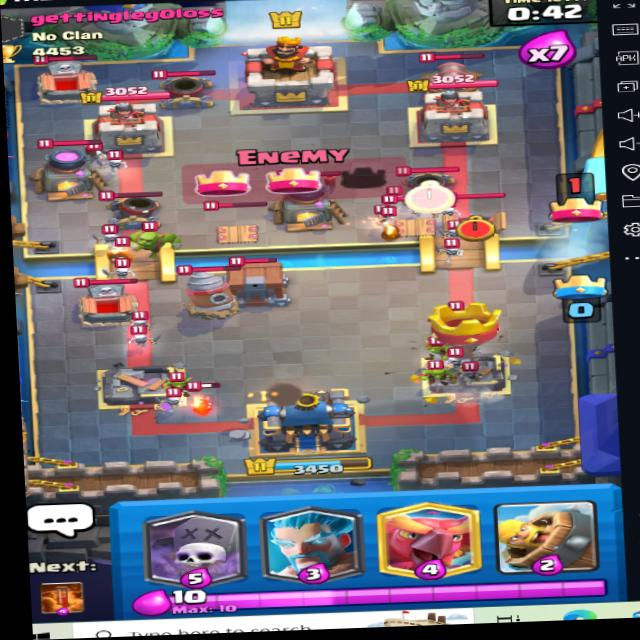Cannon: (413, 48, 487, 103)
Firespirit: (372, 218, 413, 242), (181, 391, 220, 415), (108, 234, 135, 267)
Furnace: (264, 166, 357, 231), (27, 137, 104, 196)
Goblin: (160, 367, 199, 392), (419, 360, 456, 385), (422, 337, 452, 360)
Goblinbrawler: (118, 216, 181, 258)
Goblincage: (214, 248, 293, 308)
Goblindrill: (166, 261, 244, 321)
Mortar: (93, 183, 167, 236), (390, 159, 464, 208), (149, 64, 220, 111)
Skeleton: (100, 152, 132, 174), (113, 261, 148, 280), (457, 359, 488, 380), (434, 238, 458, 263), (442, 354, 477, 371), (158, 386, 185, 408), (129, 330, 152, 349)
Teslahidden: (202, 197, 276, 245), (381, 191, 451, 240)
Tombstone: (66, 274, 148, 325), (33, 53, 112, 105)
